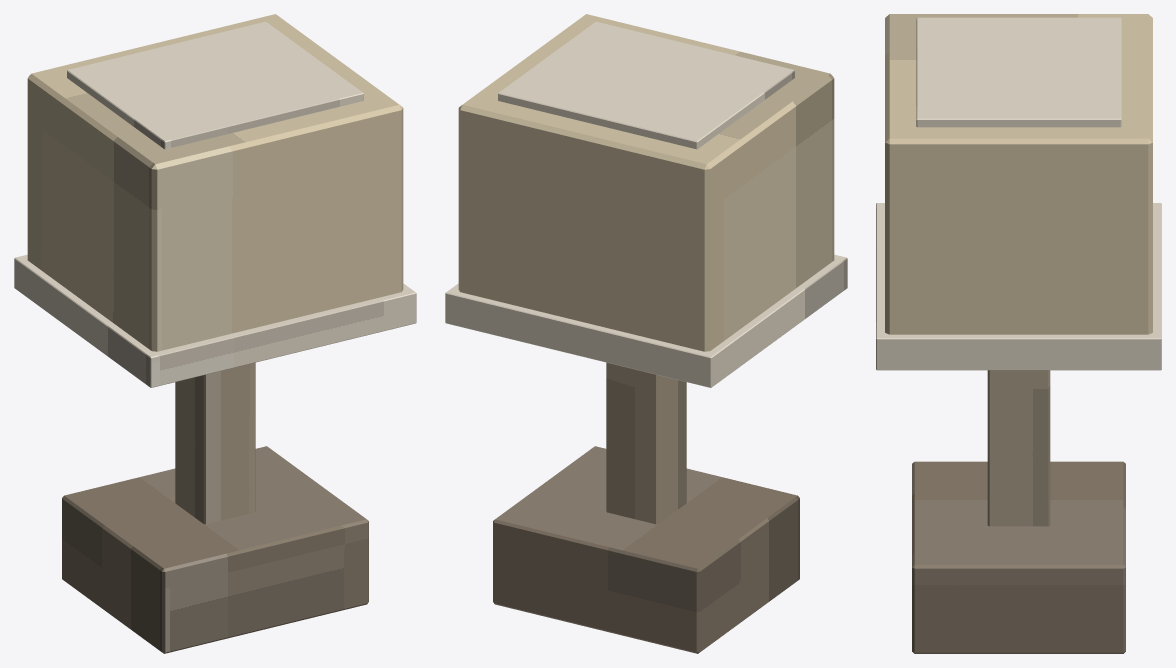
Rendered from bedside_lamp_ivory.glb.
3 views of the same model, side by side, from view 1: azimuth 30°, elevation 25°; view 2: azimuth 150°, elevation 25°; view 3: azimuth 270°, elevation 25° (orthographic). The views are drawn at different scales.
Parts seen in each view (by area): view 1: LampShade, LampBase, ShadeBandTop, ShadeBandBottom, LampStem; view 2: LampShade, LampBase, ShadeBandTop, ShadeBandBottom, LampStem; view 3: LampShade, LampBase, ShadeBandTop, ShadeBandBottom, LampStem.
Part boxes in pixels (x1,y1,x2,y2): LampShade: (27, 14, 403, 351); LampBase: (62, 446, 368, 653); ShadeBandTop: (67, 21, 363, 149); ShadeBandBottom: (14, 254, 416, 387); LampStem: (175, 362, 255, 524); LampShade: (458, 14, 834, 351); LampBase: (493, 446, 799, 653); ShadeBandTop: (498, 21, 794, 149); ShadeBandBottom: (445, 254, 847, 387); LampStem: (606, 362, 686, 524); LampShade: (885, 14, 1152, 334); LampBase: (912, 461, 1125, 653); ShadeBandTop: (916, 17, 1121, 127); ShadeBandBottom: (876, 203, 1161, 370); LampStem: (987, 370, 1050, 526).
Size of the model in its own units: 0.36 by 0.66 by 0.32.
1 material, 1 textured.
